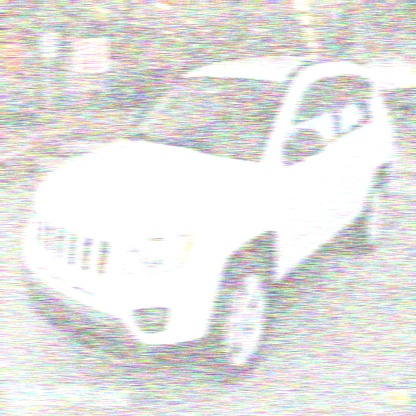Vehicle: (22, 57, 396, 380)
